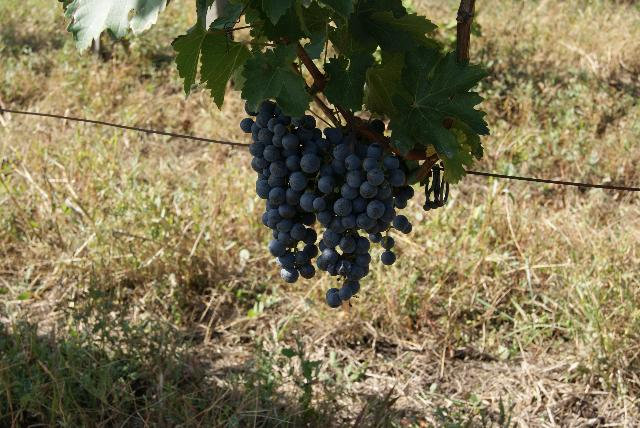grapes: (312, 128, 414, 308), (240, 100, 320, 284)
